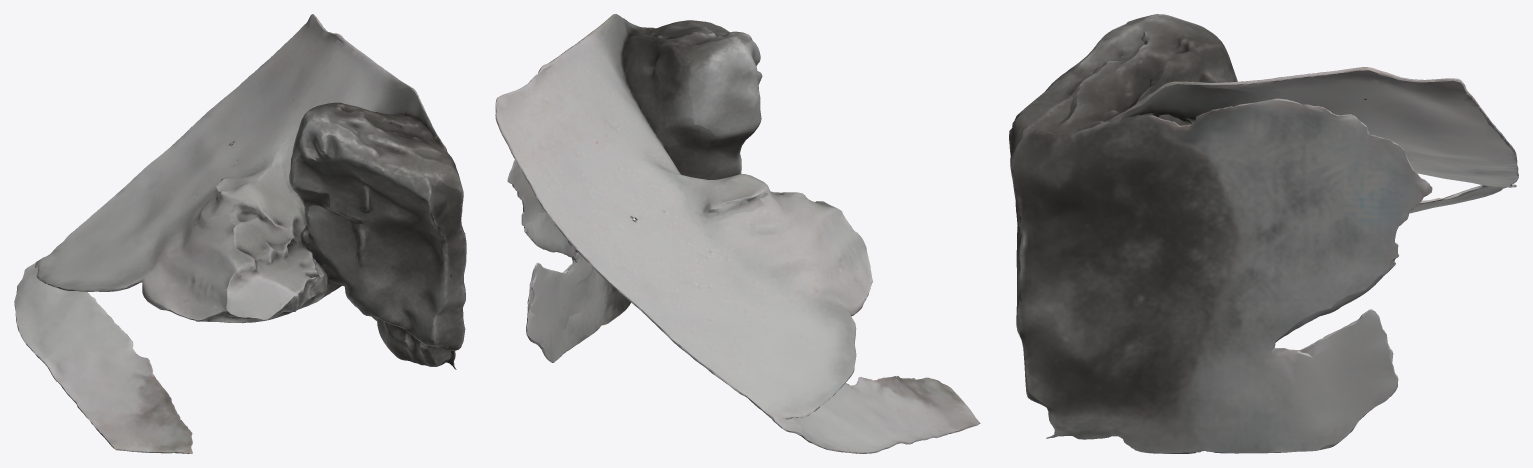
3 renders of one model, left to right at view 1: azimuth 30°, elevation 25°; view 2: azimuth 150°, elevation 25°; view 3: azimuth 270°, elevation 25°, orthographic. The views are drawn at different scales.
Visible parts, largest first — view 1: world; view 2: world; view 3: world.
Boxes of the visible parts, <box> form: world: <box>14,14,466,453</box>; world: <box>495,14,980,453</box>; world: <box>1009,14,1518,453</box>.
Size of the model in its own units: 5 by 4.47 by 5.
Materials: 1 (1 with a texture image).
